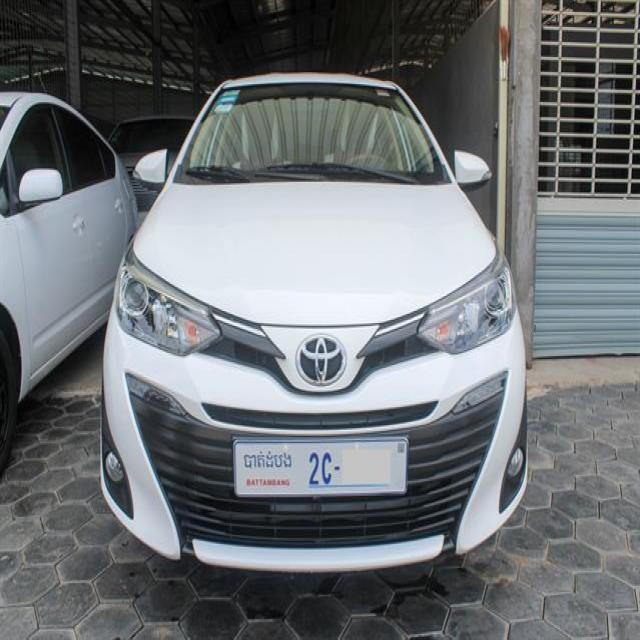Battambang: (243, 449, 292, 474)
